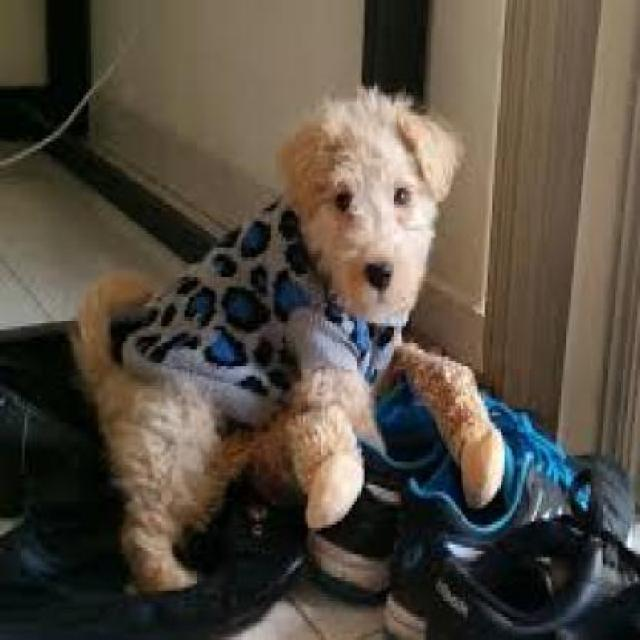animals: (38, 58, 450, 613)
